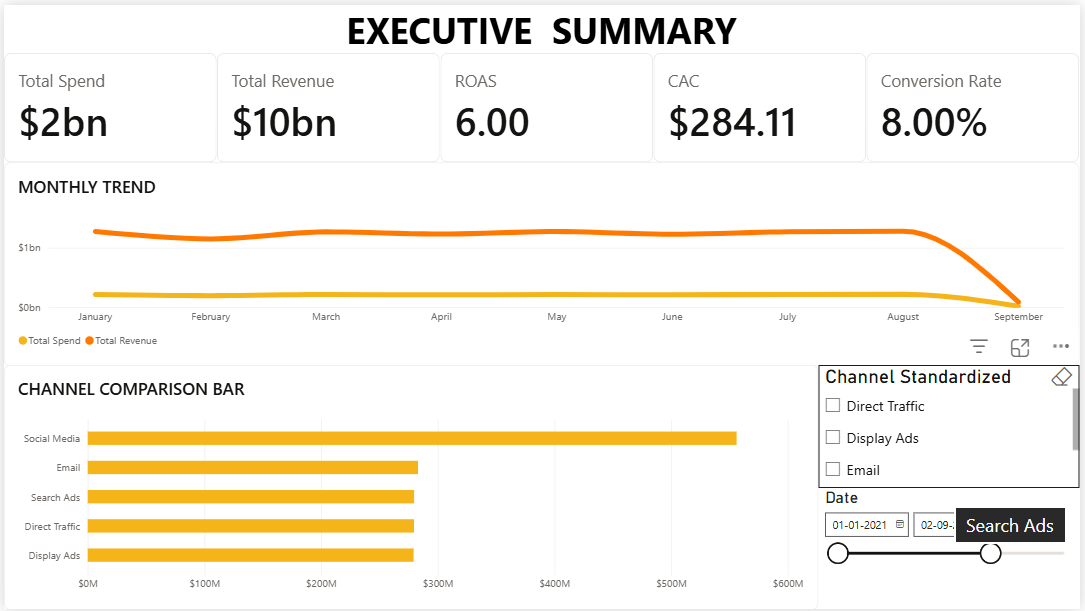

This screenshot's page, from the dashboard's own definition file:
{"tool":"powerbi","page":{"name":"EXECUTIVE  SUMMARY","canvas":[1280,720],"ordinal":0},"visuals":[{"type":"textbox","box":[0,0,1279.4,56.7],"z":0},{"type":"cardVisual","fields":{"Data":["Key Measures.Total Spend"]},"box":[0,56.9,253.7,130.1],"z":1000},{"type":"cardVisual","fields":{"Data":["Key Measures.Total Revenue"]},"box":[253.7,56.9,265.1,130.1],"z":2000},{"type":"cardVisual","fields":{"Data":["Key Measures.ROAS"]},"box":[518.9,56.9,253.7,130.1],"z":3000},{"type":"cardVisual","fields":{"Data":["Key Measures.CAC"]},"box":[772.6,56.9,253.7,130.1],"z":4000},{"type":"cardVisual","fields":{"Data":["Key Measures.Conversion Rate"]},"box":[1026.3,56.9,253.7,130.1],"z":5000},{"type":"lineChart","title":"MONTHLY TREND","fields":{"Y":["Key Measures.Total Spend","Key Measures.Total Revenue"],"Category":["Date.MonthName"]},"box":[0,187.1,1280.1,242.4],"z":6000},{"type":"clusteredBarChart","title":"CHANNEL COMPARISON BAR","fields":{"Y":["Key Measures.Total Spend"],"Category":["campaign_with_segments.channel_standardized"]},"box":[0,429,969.5,291],"z":7000},{"type":"slicer","fields":{"Values":["Date.Date"]},"box":[969.4,575.8,310.7,144.8],"z":8000},{"type":"slicer","fields":{"Values":["campaign_with_segments.channel_standardized"]},"box":[969.4,429.4,310.7,146.4],"z":9000}]}

Visuals, with their boxes in screenshot pixels (x1, y1, x2, y2), scaled from the page's 1280x720 canvas onto the 1085x611 screenshot:
textbox: (0, 0, 1084, 48)
cardVisual - Key Measures.Total Spend: (0, 48, 215, 159)
cardVisual - Key Measures.Total Revenue: (215, 48, 440, 159)
cardVisual - Key Measures.ROAS: (440, 48, 655, 159)
cardVisual - Key Measures.CAC: (655, 48, 870, 159)
cardVisual - Key Measures.Conversion Rate: (870, 48, 1084, 159)
"MONTHLY TREND" lineChart: (0, 159, 1084, 364)
"CHANNEL COMPARISON BAR" clusteredBarChart: (0, 364, 822, 610)
slicer - Date.Date: (822, 489, 1084, 610)
slicer - campaign_with_segments.channel_standardized: (822, 364, 1084, 489)
